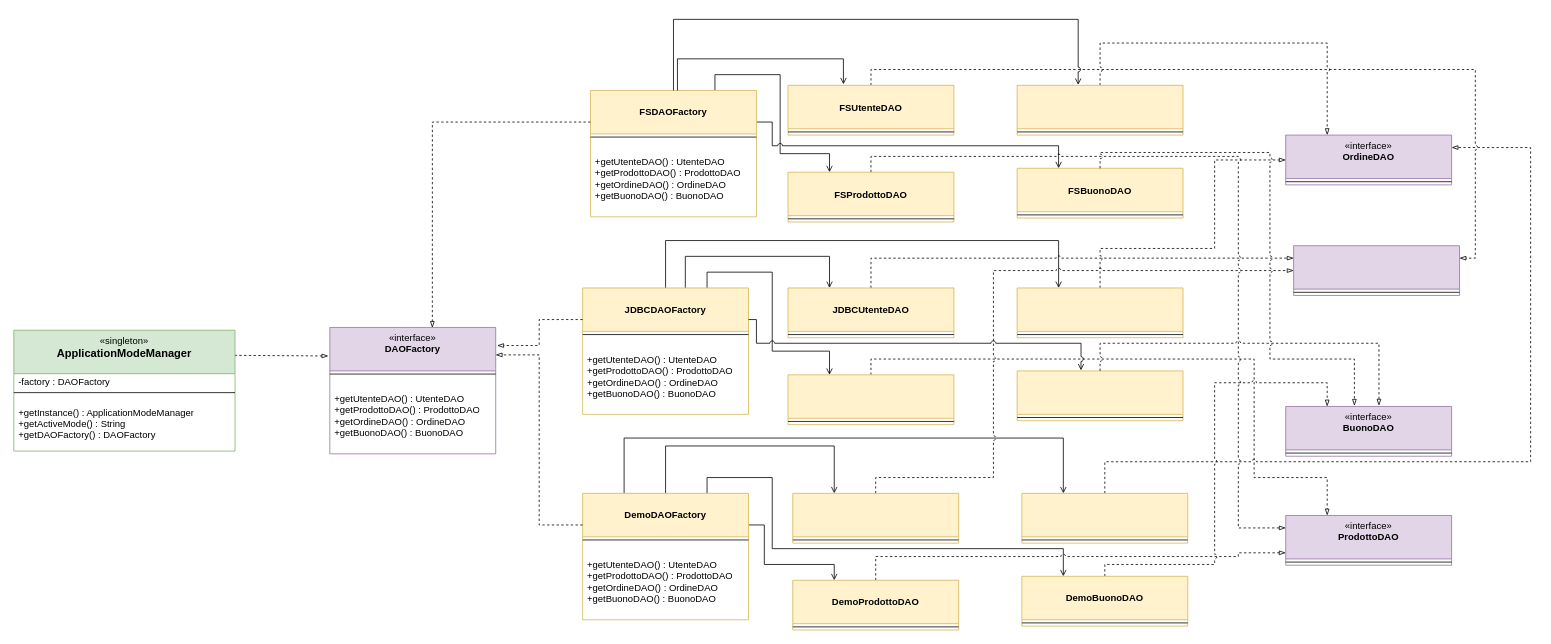
The diagram is 1551 pixels wide and 644 high, and some of its shapes have lost their labels. The shapes that lost their labels are listed below. From the top down, each one's centre as x and y in pixels, then its label:
At (x=1099, y=110): "FSOrdine DAO".
At (x=1376, y=270): "«interface» UtenteDAO".
At (x=1099, y=312): "JDBCOrdine DAO".
At (x=870, y=399): "JDBCProdotto DAO".
At (x=1099, y=395): "JDBCBuono DAO".
At (x=875, y=518): "DemoUtente DAO".
At (x=1104, y=518): "DemoOrdine DAO".
